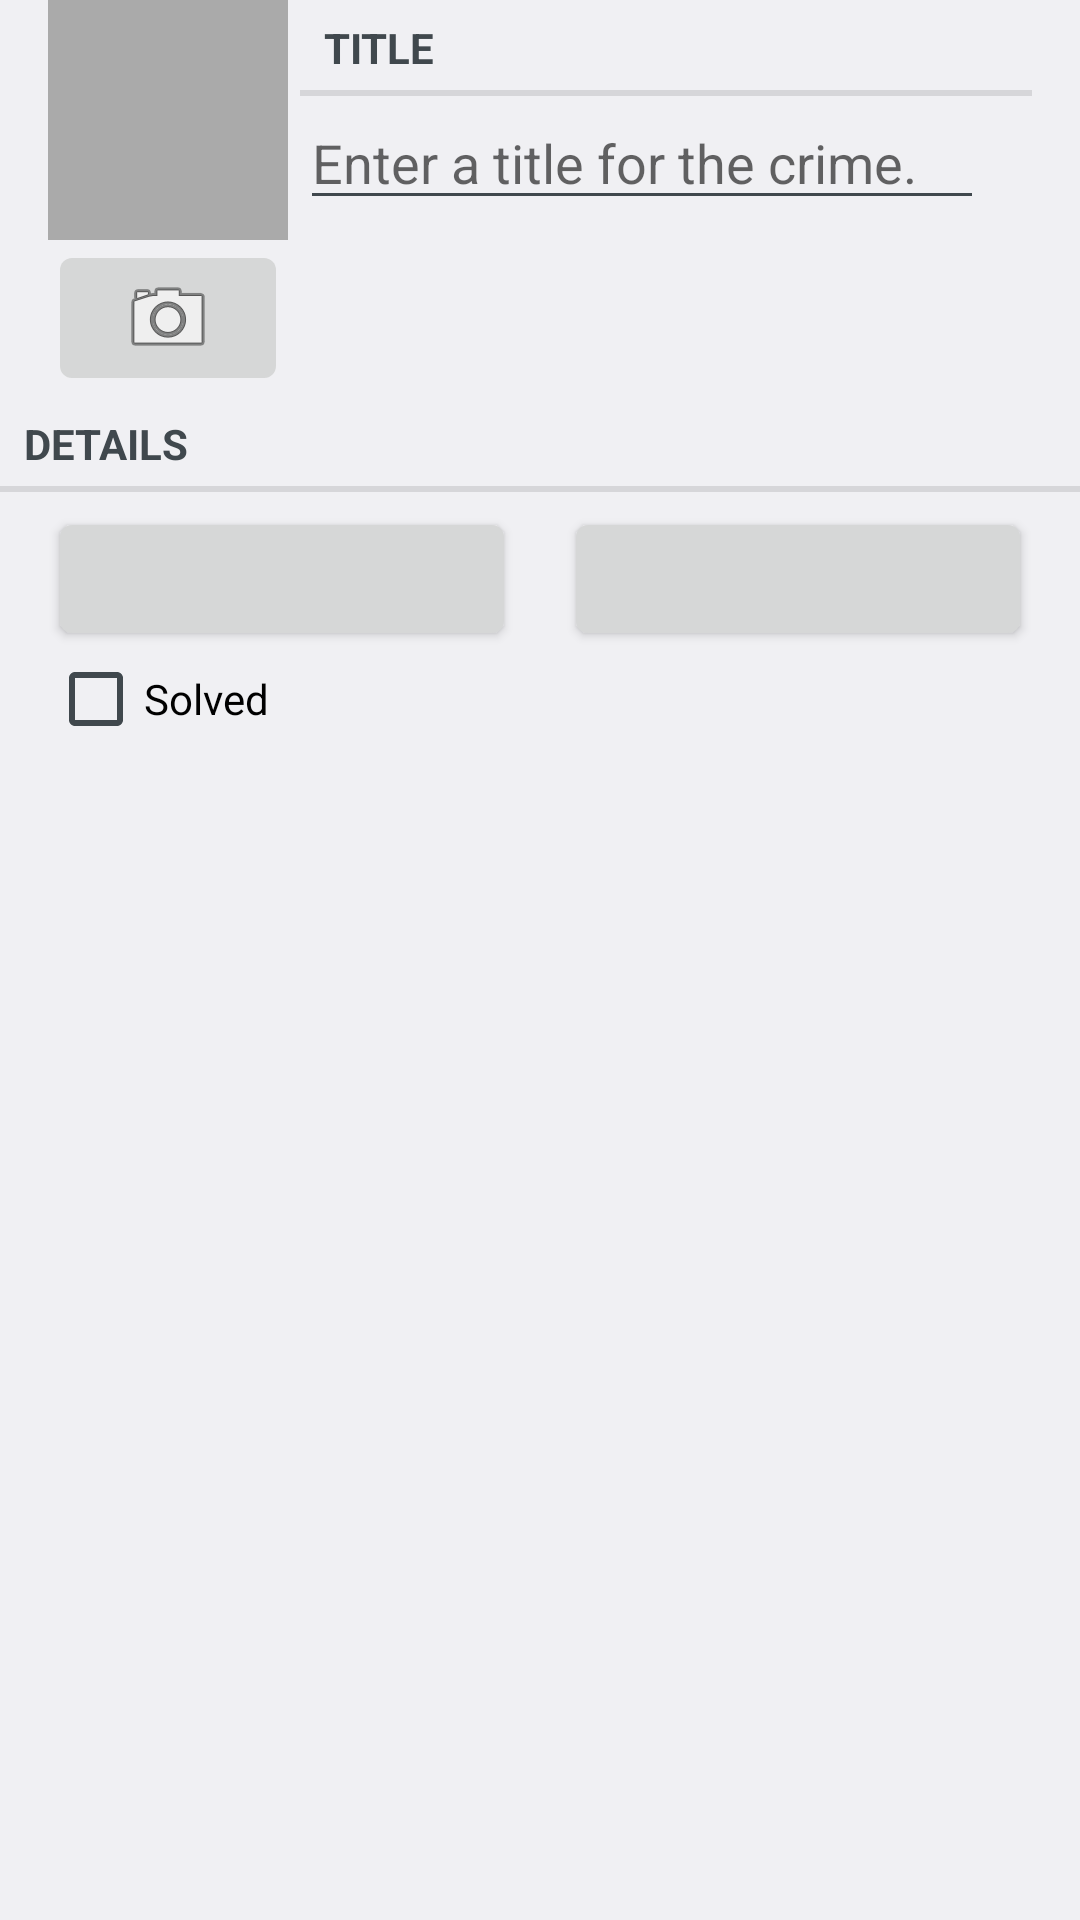

Icon click points for this 1080×1920 phone screenshot, format (x=x, y=y):
camera: (x=168, y=318)
